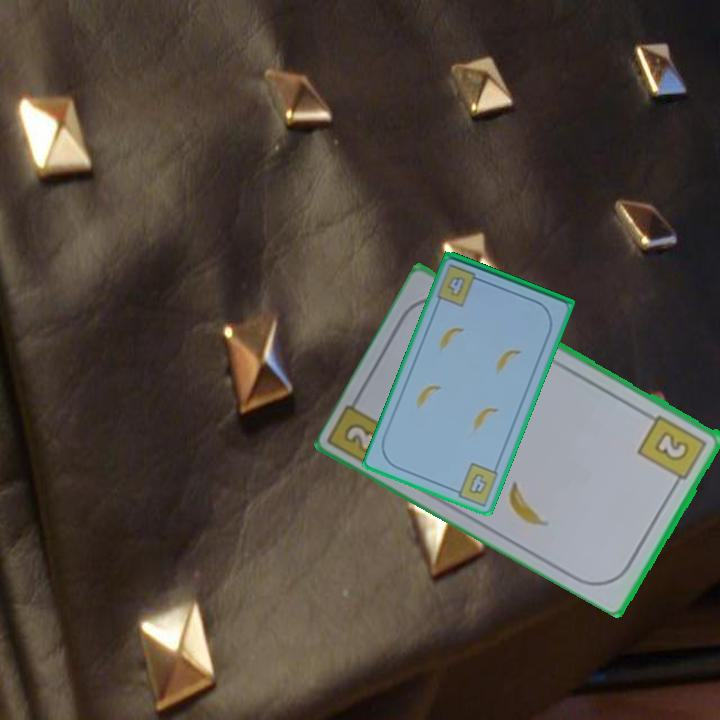2b: (635, 411, 710, 490), (343, 422, 378, 453)
4b: (449, 459, 501, 507), (444, 273, 469, 300)
